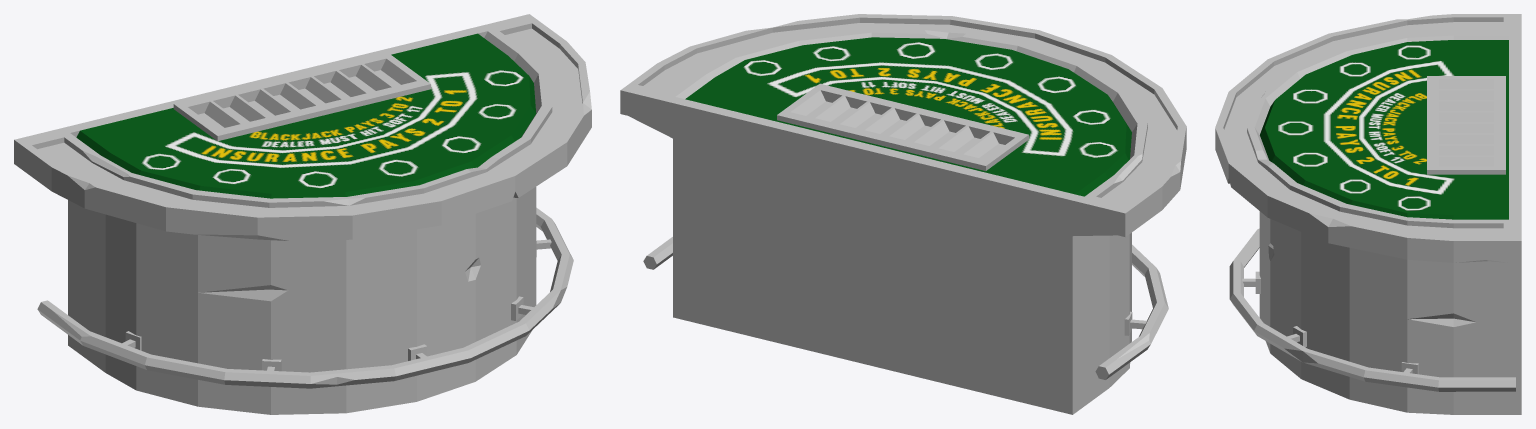
The model's file is SM_Prop_Blackjack_Table_01.fbx.
3 renders of one model, left to right at view 1: azimuth 30°, elevation 25°; view 2: azimuth 150°, elevation 25°; view 3: azimuth 270°, elevation 25°, orthographic. The views are drawn at different scales.
Visible parts, largest first — view 1: SM_Prop_Blackjack_Table_01; view 2: SM_Prop_Blackjack_Table_01; view 3: SM_Prop_Blackjack_Table_01.
Part boxes in pixels (x1,y1,x2,y2): SM_Prop_Blackjack_Table_01: (14,14,591,414); SM_Prop_Blackjack_Table_01: (620,14,1186,414); SM_Prop_Blackjack_Table_01: (1215,14,1521,414).
Size of the model in its own units: 247 by 102 by 141.
